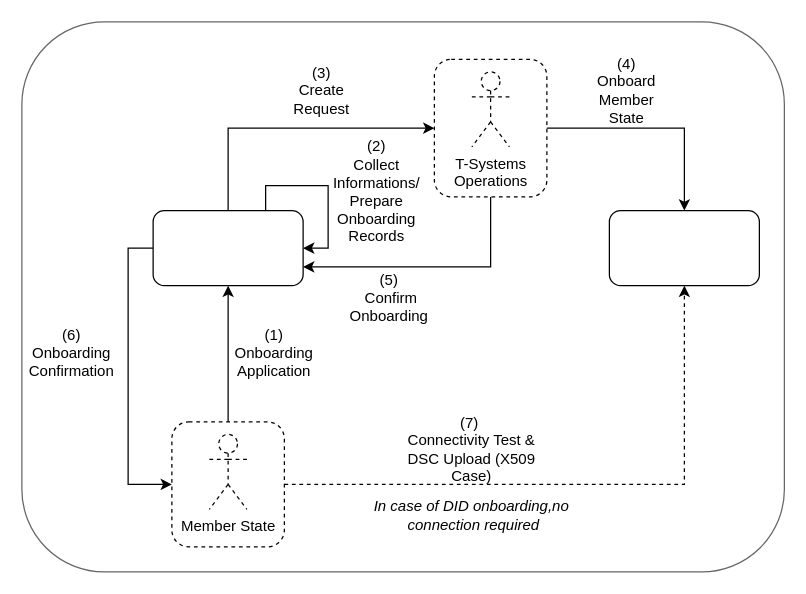
This 806x594 diagram has some shape labels left out. Here are the shapes that lost their labels. From the top down, the centre of each, then its label:
point 227,247: WHO Trust Network Secretariat
point 683,247: Gateway
